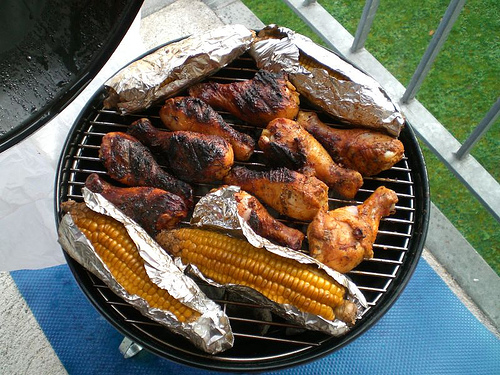corn: (62, 200, 236, 352), (156, 226, 346, 321), (252, 24, 405, 137), (102, 26, 253, 115)
